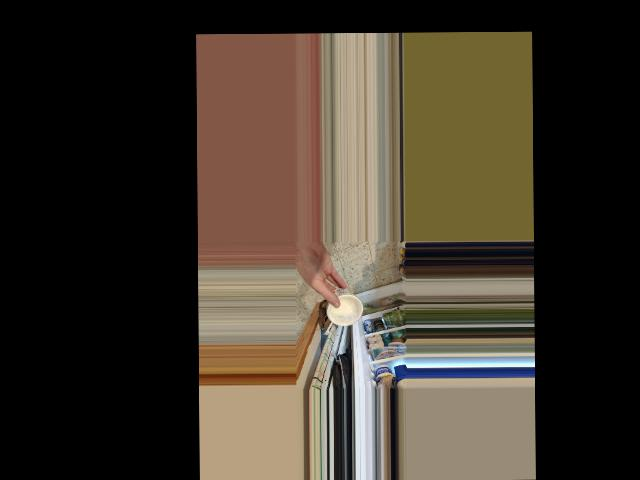cotage: (325, 288, 353, 323)
